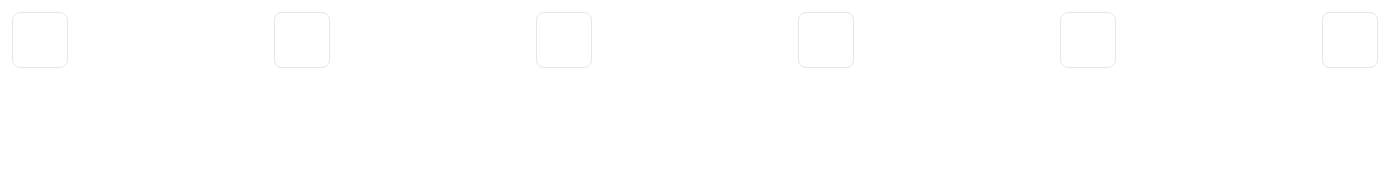
Scenario: OtpInput › fills every box when a full code is pasted
This screenshot has width=1390, height=172.
Click the field named "Digit 1" at point(40, 40), box [12,12,68,68]
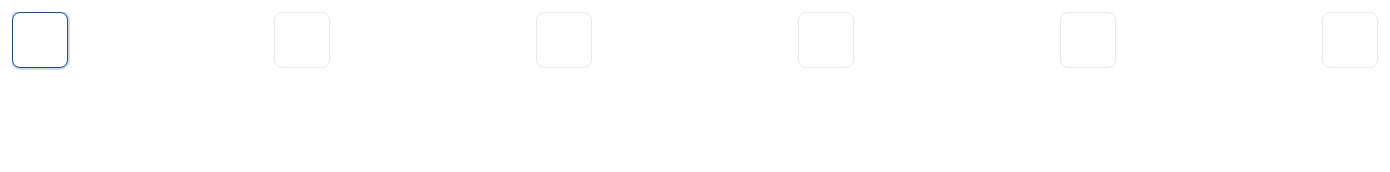
Type keys "482 913"
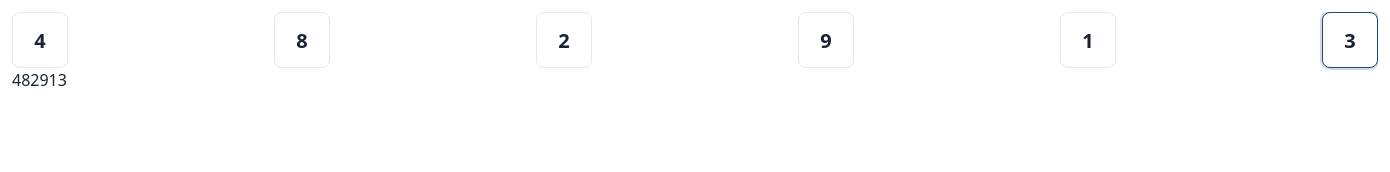
Now the text with test id "value" reads "482913", box [12,69,67,91]
